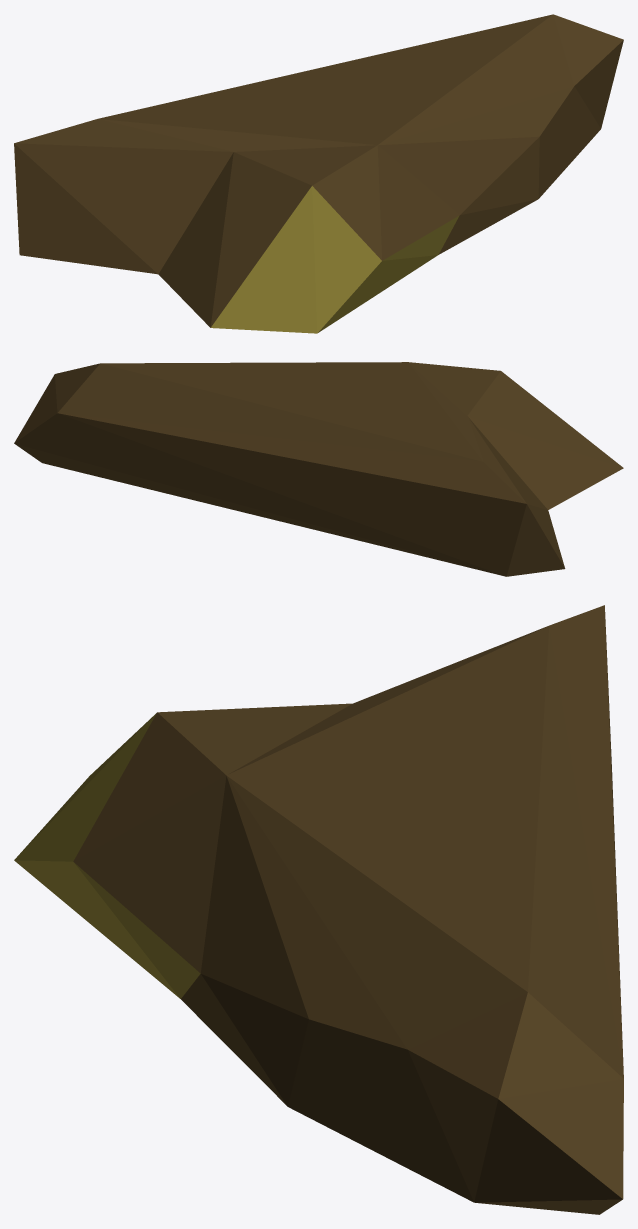
Rendered from Pulau001.fbx.
3 views of the same model, one above another, from view 1: azimuth 30°, elevation 25°; view 2: azimuth 150°, elevation 25°; view 3: azimuth 270°, elevation 25° (orthographic). The views are drawn at different scales.
Parts seen in each view (by area): view 1: PULAU.001; view 2: PULAU.001; view 3: PULAU.001.
Part boxes in pixels (box(x1,y1,x2,y2)): PULAU.001: box(14, 14, 623, 333); PULAU.001: box(14, 362, 623, 576); PULAU.001: box(14, 605, 623, 1214).
Bounding box in the file's own units: 630 × 111 × 329.
